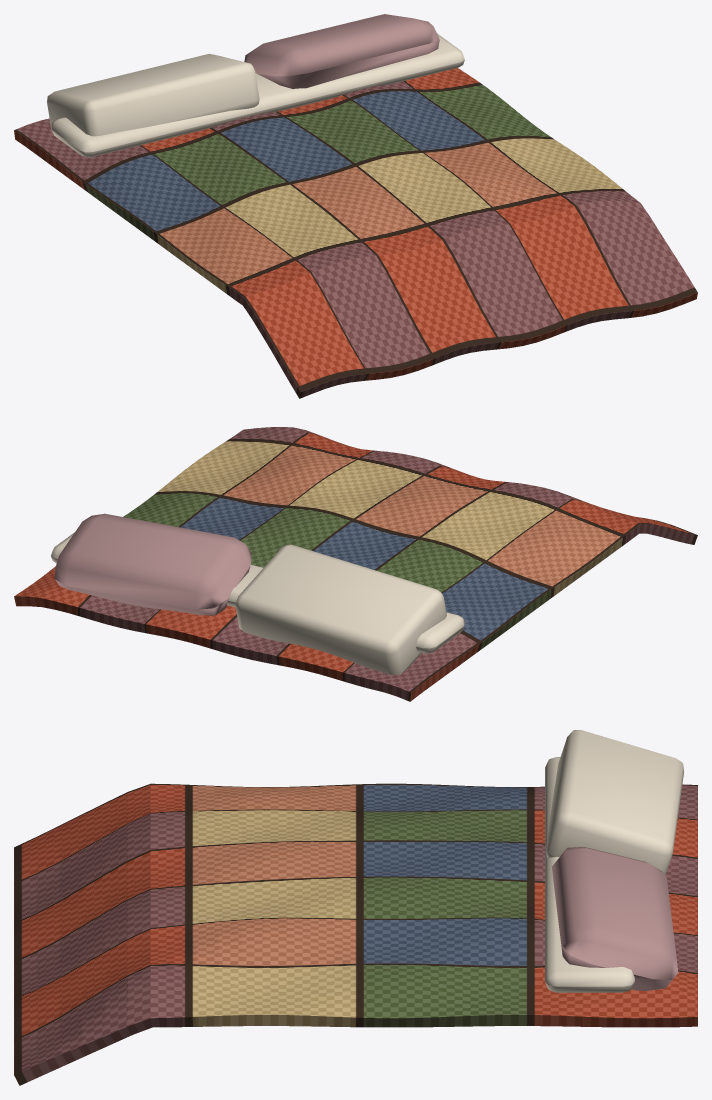
Rendered from bed-quilt.glb.
3 views of the same model, one above another, from view 1: azimuth 30°, elevation 25°; view 2: azimuth 150°, elevation 25°; view 3: azimuth 270°, elevation 25° (orthographic). The views are drawn at different scales.
Parts seen in each view (by area): view 1: quilt, merged_cream, pillow-1; view 2: quilt, merged_cream, pillow-1; view 3: quilt, merged_cream, pillow-1.
Part boxes in pixels (x1,y1,x2,y2): quilt: (14,68,697,398); merged_cream: (47,33,464,157); pillow-1: (244,14,439,88); quilt: (14,427,697,701); merged_cream: (51,532,464,675); pillow-1: (54,513,251,615); quilt: (14,783,697,1085); merged_cream: (545,730,683,992); pillow-1: (552,847,678,990).
Size of the model in its own units: 1.52 by 0.4624 by 1.9.
3 materials, 1 textured.
